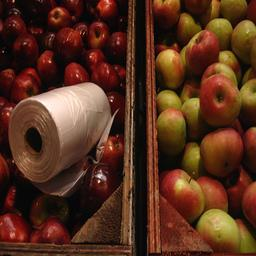apple: (197, 72, 240, 127), (159, 170, 203, 221), (199, 126, 242, 176), (196, 209, 240, 252), (155, 107, 187, 156), (185, 30, 220, 72), (154, 48, 184, 90), (28, 215, 70, 244), (196, 176, 228, 212), (54, 28, 83, 62), (205, 17, 233, 51), (10, 72, 40, 103), (1, 213, 31, 243), (174, 13, 202, 45), (179, 142, 201, 178), (152, 1, 180, 29), (86, 21, 109, 49), (46, 6, 71, 31)
